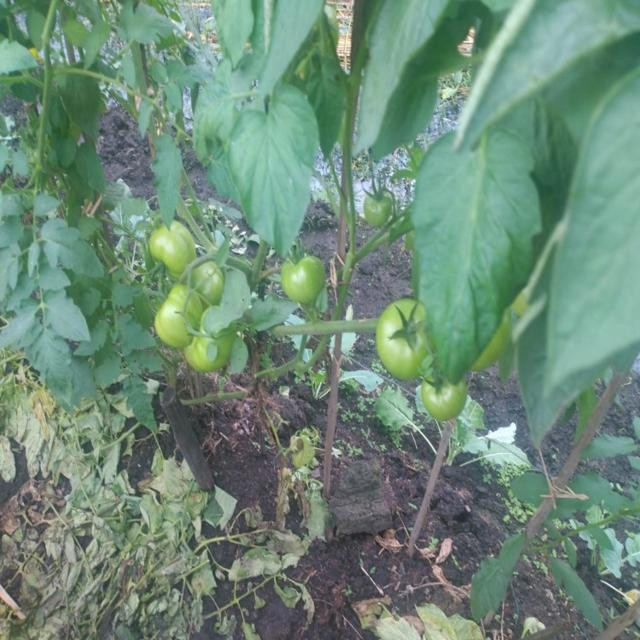tomato: (380, 300, 425, 387), (155, 285, 199, 345), (281, 256, 325, 307), (187, 329, 236, 373), (152, 225, 193, 271), (423, 384, 470, 418), (195, 265, 225, 305), (364, 192, 393, 226)
